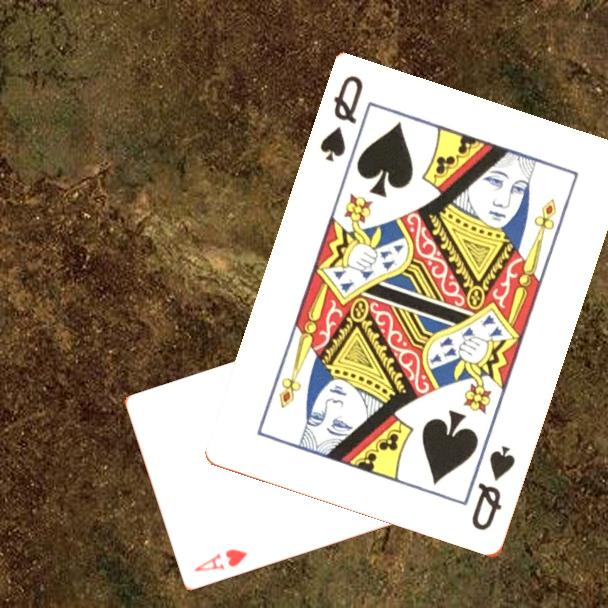h01: (191, 546, 251, 575)
s12: (316, 72, 367, 166), (468, 442, 519, 534)
